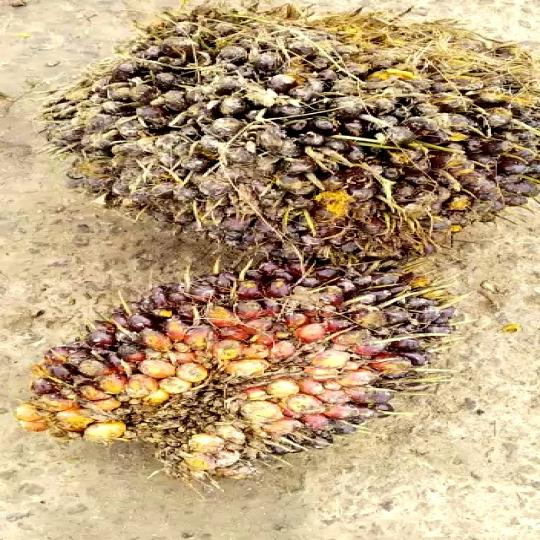kurang masak: (43, 0, 538, 271), (38, 252, 455, 483)
